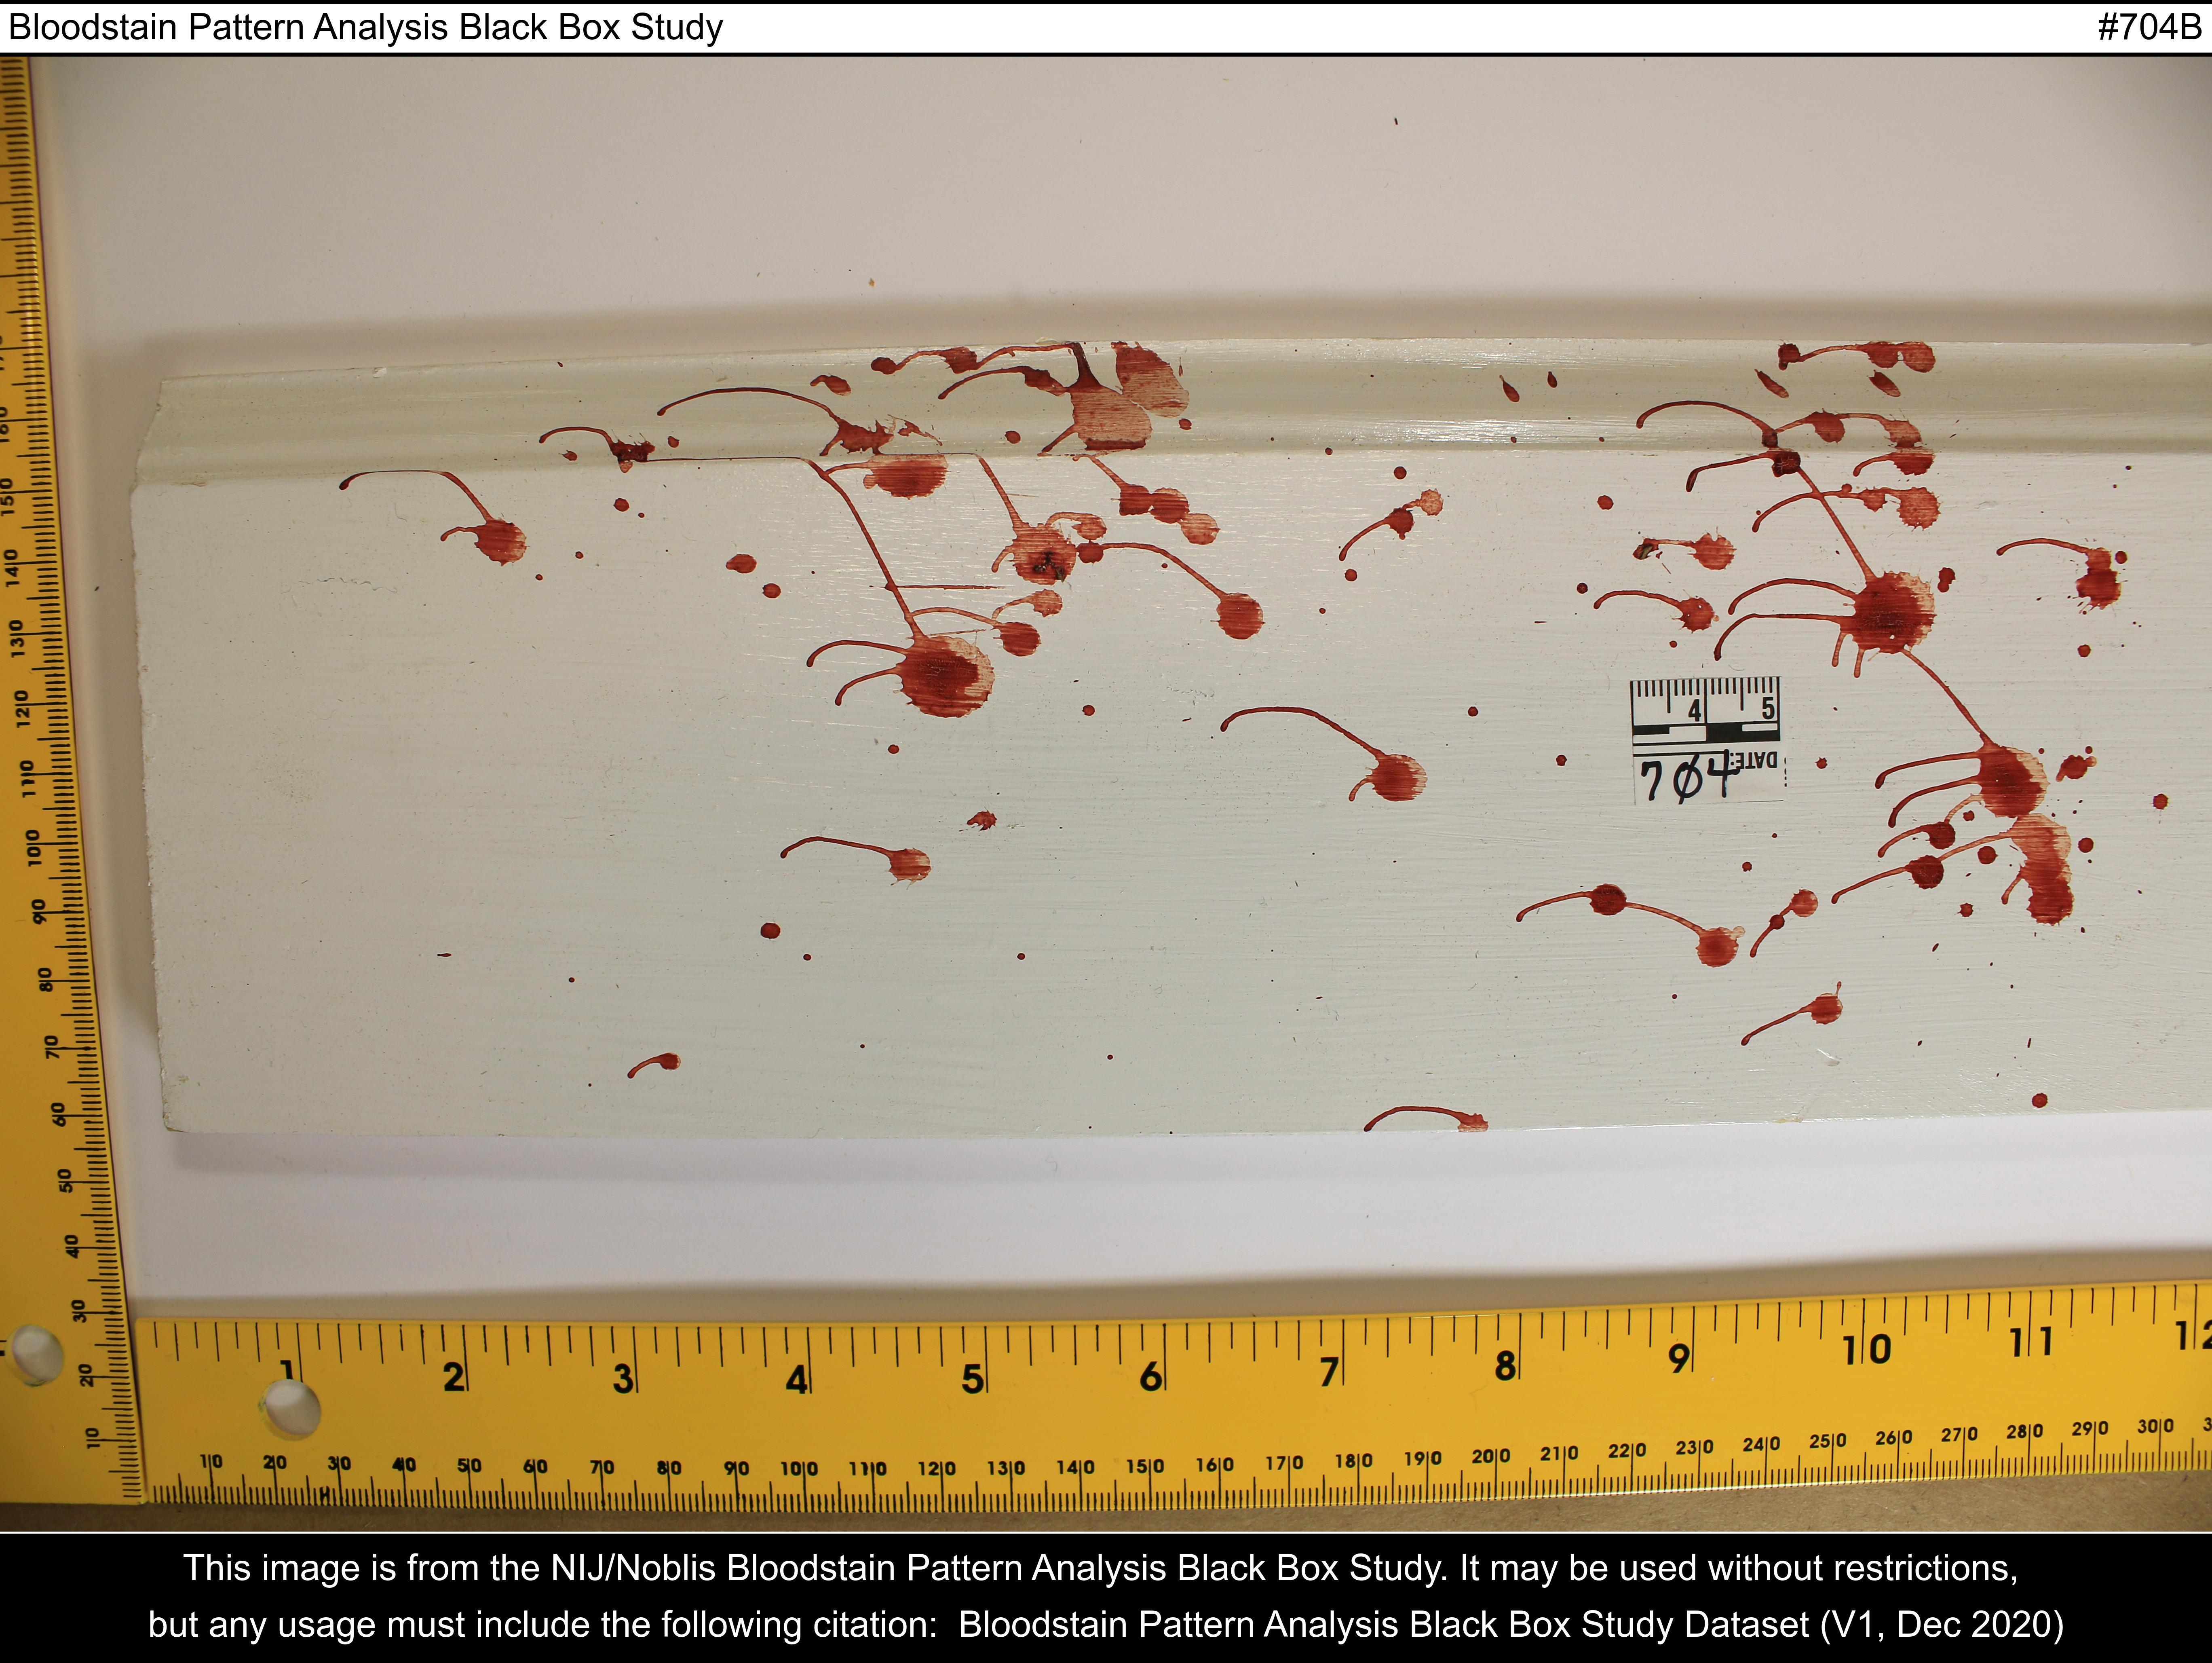Impact: (313, 337, 2179, 1130)
